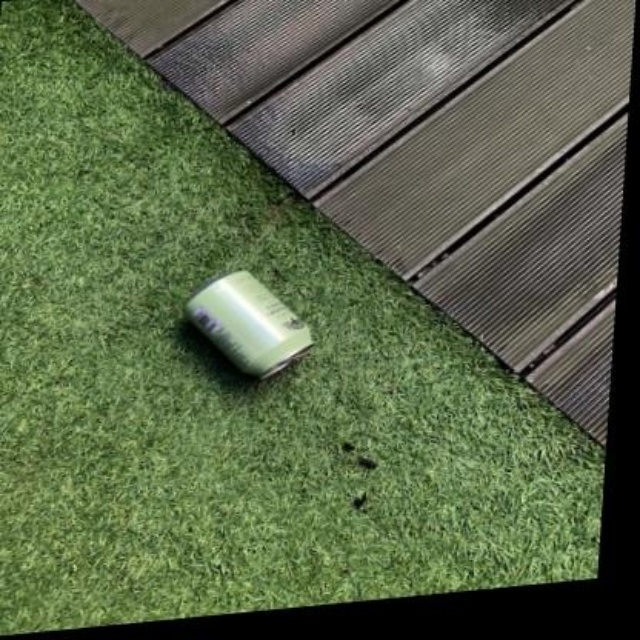trash: (186, 271, 311, 377)
